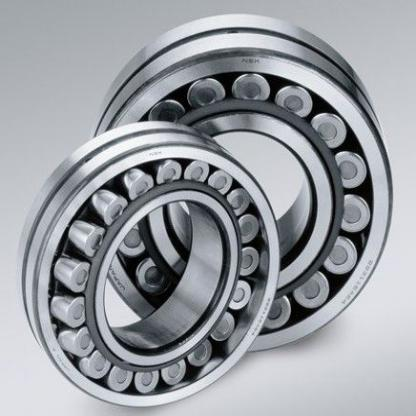FOD: (83, 12, 399, 355), (17, 116, 280, 412)
